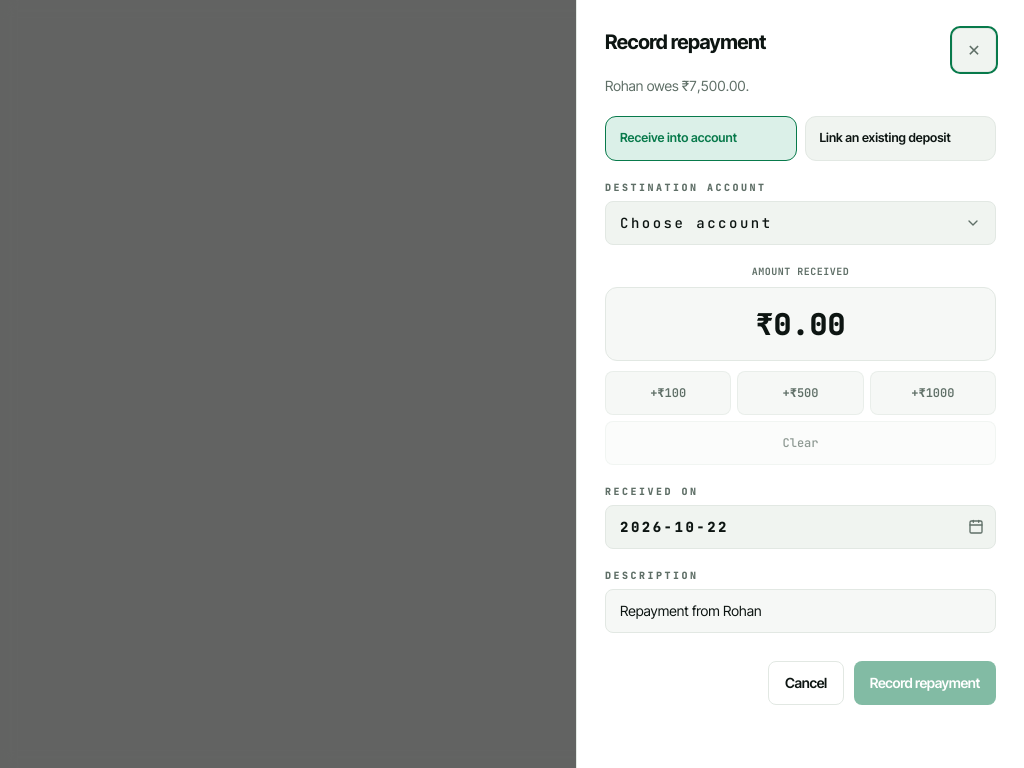
Test case: RecordRepaymentSheet › caps the amount field at the outstanding balance and shows the settle banner at an exact match
Step 1. Replace the text in the field labelled "Amount received" with "999999999" → coordinates (800, 324), box [605,287,996,361]
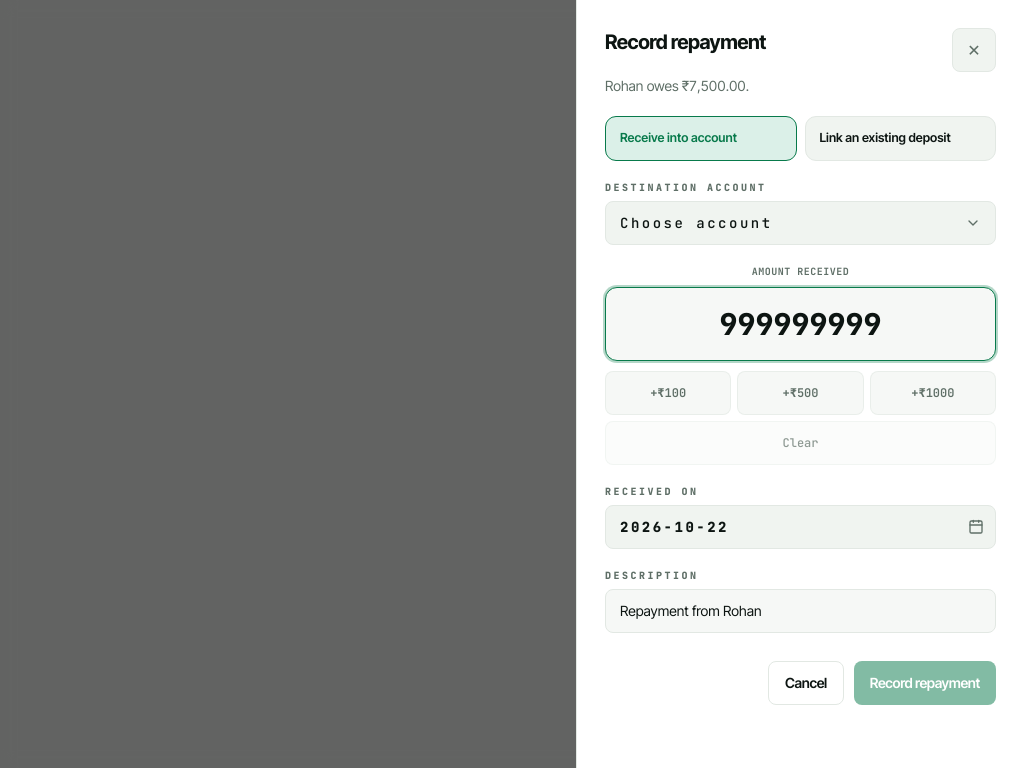
Step 2. Press Tab
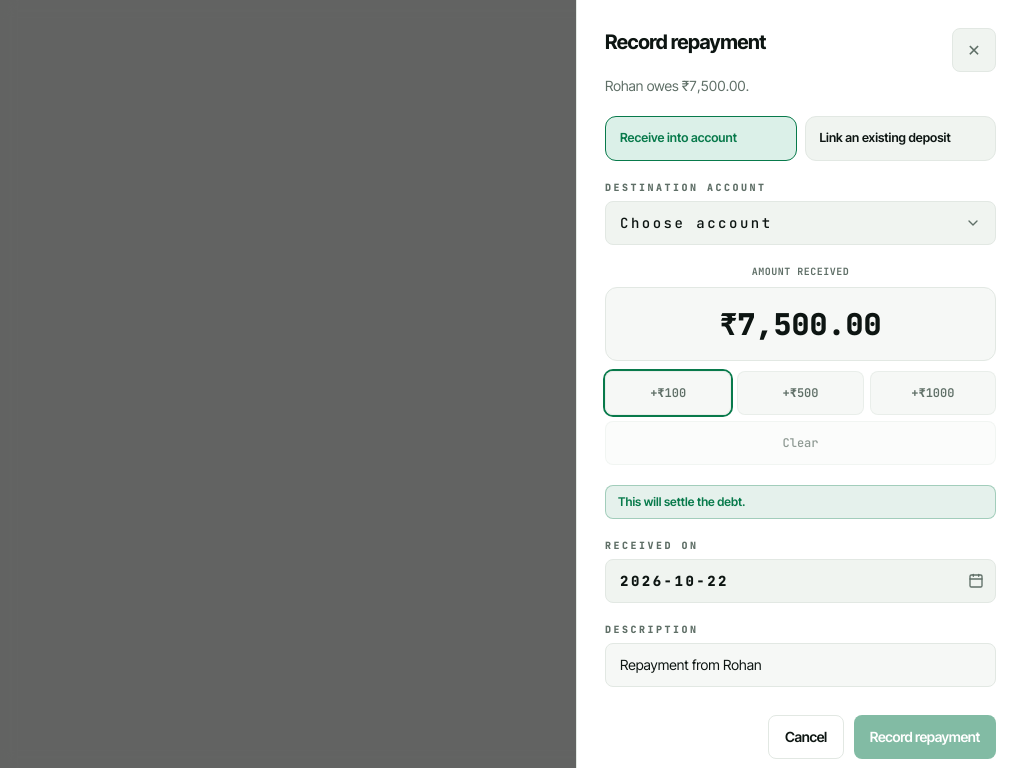
Check: the text "This will settle the debt." is shown, box [605,485,996,519]
